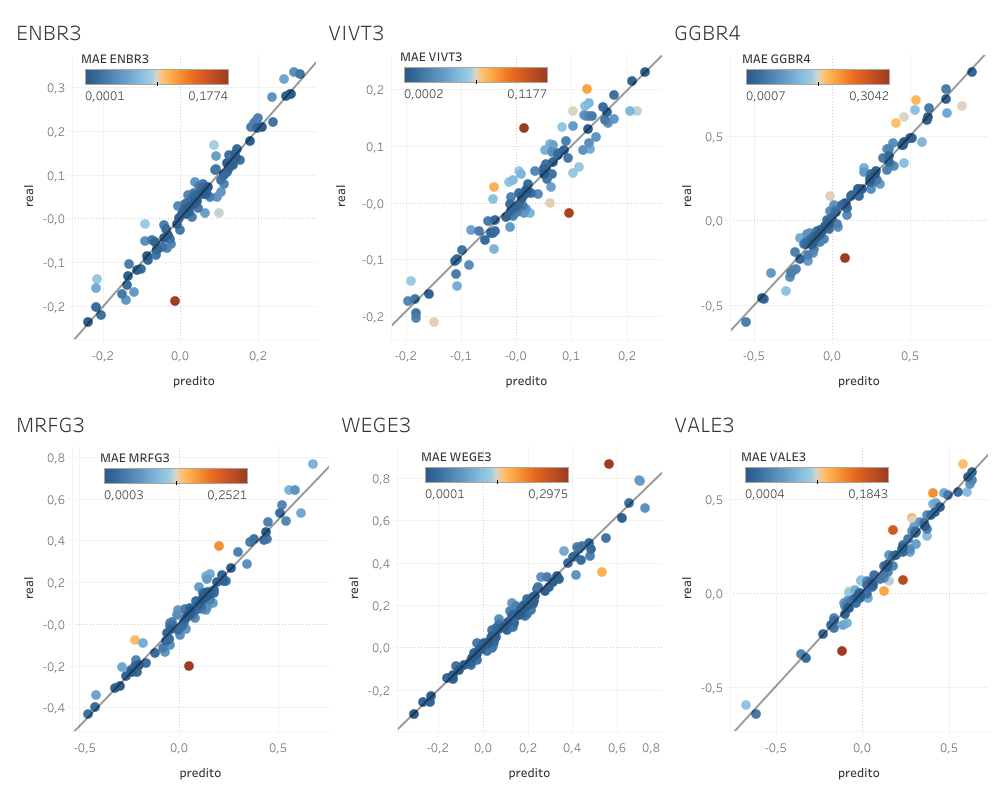

What the dashboard file says about the page in this screenshot:
{"tool":"tableau","page":{"name":"Dashboard2","canvas":[1000,800],"ordinal":1},"visuals":[{"type":"worksheet","box":[0,0,1000,800]},{"type":"worksheet","param":"horz","box":[8,8,984,784]},{"type":"worksheet","box":[8,8,984,784]},{"type":"worksheet","title":"ENBR3","mark":"Automatic","rows":["ENBR3 (obs)"],"cols":["ENBR3"],"box":[8,8,312,392]},{"type":"worksheet","title":"VIVT3","mark":"Automatic","rows":["VIVT3 (obs)"],"cols":["VIVT3"],"box":[320,8,346,392]},{"type":"worksheet","title":"GGBR4","mark":"Automatic","rows":["GGBR4 (obs)"],"cols":["GGBR4"],"box":[666,8,326,392]},{"type":"worksheet","title":"VIVT3","mark":"Automatic","rows":["VIVT3 (obs)"],"cols":["VIVT3"],"param":"[federated.1erpp7r16owpnw15e64un07aysdq].[none:Calculation_705587442895151112:qk","box":[400,43,152,79]},{"type":"worksheet","title":"ENBR3","mark":"Automatic","rows":["ENBR3 (obs)"],"cols":["ENBR3"],"param":"[federated.1erpp7r16owpnw15e64un07aysdq].[none:Calculation_705587442891374596:qk","box":[81,45,152,79]},{"type":"worksheet","title":"GGBR4","mark":"Automatic","rows":["GGBR4 (obs)"],"cols":["GGBR4"],"param":"[federated.1erpp7r16owpnw15e64un07aysdq].[none:Calculation_705587442892193797:qk","box":[742,45,152,79]},{"type":"worksheet","title":"MRFG3","mark":"Automatic","rows":["MRFG3 (obs)"],"cols":["MRFG3"],"box":[8,400,325,392]},{"type":"worksheet","title":"WEGE3","mark":"Automatic","rows":["WEGE3 (obs)"],"cols":["WEGE3"],"box":[333,400,333,392]},{"type":"worksheet","title":"VALE3","mark":"Automatic","rows":["VALE3 (obs)"],"cols":["VALE3"],"box":[666,400,326,392]},{"type":"worksheet","title":"WEGE3","mark":"Automatic","rows":["WEGE3 (obs)"],"cols":["WEGE3"],"param":"[federated.1erpp7r16owpnw15e64un07aysdq].[none:Calculation_705587442895982601:qk","box":[421,443,152,79]},{"type":"worksheet","title":"VALE3","mark":"Automatic","rows":["VALE3 (obs)"],"cols":["VALE3"],"param":"[federated.1erpp7r16owpnw15e64un07aysdq].[none:Calculation_705587442894204935:qk","box":[741,443,152,79]},{"type":"worksheet","title":"MRFG3","mark":"Automatic","rows":["MRFG3 (obs)"],"cols":["MRFG3"],"param":"[federated.1erpp7r16owpnw15e64un07aysdq].[none:Calculation_705587442893389830:qk","box":[100,444,152,79]}]}

Visuals, with their boxes in screenshot pixels (x1, y1, x2, y2), scaled from the page's 1000x800 canvas onto the 999x799 screenshot:
worksheet: bbox=[0, 0, 998, 798]
worksheet: bbox=[8, 8, 991, 791]
worksheet: bbox=[8, 8, 991, 791]
"ENBR3" worksheet: bbox=[8, 8, 320, 400]
"VIVT3" worksheet: bbox=[320, 8, 665, 400]
"GGBR4" worksheet: bbox=[665, 8, 991, 400]
"VIVT3" worksheet: bbox=[400, 43, 551, 122]
"ENBR3" worksheet: bbox=[81, 45, 233, 124]
"GGBR4" worksheet: bbox=[741, 45, 893, 124]
"MRFG3" worksheet: bbox=[8, 400, 333, 791]
"WEGE3" worksheet: bbox=[333, 400, 665, 791]
"VALE3" worksheet: bbox=[665, 400, 991, 791]
"WEGE3" worksheet: bbox=[421, 442, 572, 521]
"VALE3" worksheet: bbox=[740, 442, 892, 521]
"MRFG3" worksheet: bbox=[100, 443, 252, 522]
